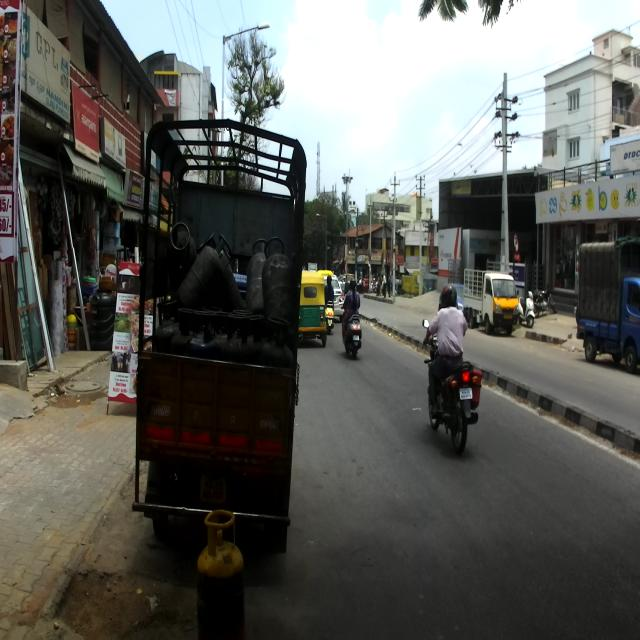motorcycle ahead at: (418, 356, 482, 453)
truck ahead at: (135, 123, 304, 536)
